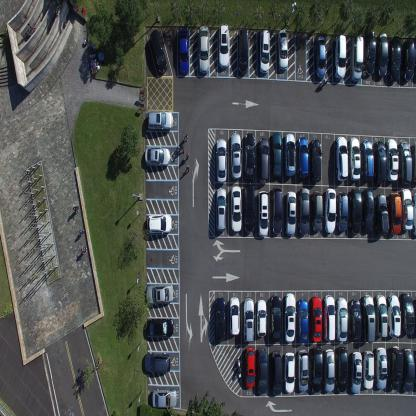car: (150, 27, 168, 74), (360, 294, 375, 343), (387, 345, 403, 390), (372, 140, 387, 185), (362, 29, 376, 76), (399, 292, 414, 335), (145, 282, 173, 305), (375, 32, 389, 78), (334, 135, 348, 180), (335, 344, 348, 392), (144, 351, 171, 374), (398, 140, 412, 184), (387, 190, 401, 234), (399, 187, 413, 231), (387, 293, 401, 337), (374, 294, 388, 338), (146, 316, 174, 338), (374, 346, 388, 390), (402, 38, 416, 82), (230, 185, 243, 232), (350, 34, 363, 80), (401, 346, 414, 392), (146, 212, 172, 235), (270, 130, 282, 179), (298, 187, 310, 236), (269, 294, 281, 343), (146, 109, 174, 130), (385, 137, 398, 182), (230, 132, 242, 180), (271, 186, 283, 234), (324, 187, 336, 235), (256, 346, 268, 394), (374, 194, 388, 235), (244, 130, 255, 182), (333, 34, 346, 78), (349, 350, 362, 394), (257, 136, 269, 183), (388, 36, 400, 83), (349, 187, 361, 234), (362, 187, 374, 234), (270, 349, 282, 396), (311, 345, 323, 392), (360, 139, 373, 182), (218, 22, 230, 68), (257, 190, 269, 236), (284, 191, 296, 237), (323, 294, 335, 340), (310, 296, 322, 342), (244, 183, 255, 233), (198, 24, 209, 74), (284, 292, 295, 342), (152, 387, 177, 409), (314, 34, 326, 79), (335, 297, 347, 342), (144, 146, 171, 166), (297, 134, 309, 178), (284, 130, 296, 174), (216, 136, 227, 184), (238, 27, 249, 75), (309, 137, 321, 180), (348, 137, 360, 180), (310, 189, 322, 232), (336, 190, 348, 233), (349, 298, 361, 341), (216, 186, 227, 232), (259, 28, 270, 74), (243, 298, 254, 344), (214, 296, 225, 342), (277, 28, 289, 70), (244, 346, 256, 388), (178, 27, 188, 77), (297, 298, 308, 343), (283, 352, 295, 393), (297, 348, 308, 392), (362, 349, 374, 389), (256, 298, 267, 338), (229, 296, 240, 336), (324, 348, 334, 392), (412, 190, 416, 235), (412, 143, 416, 182)
